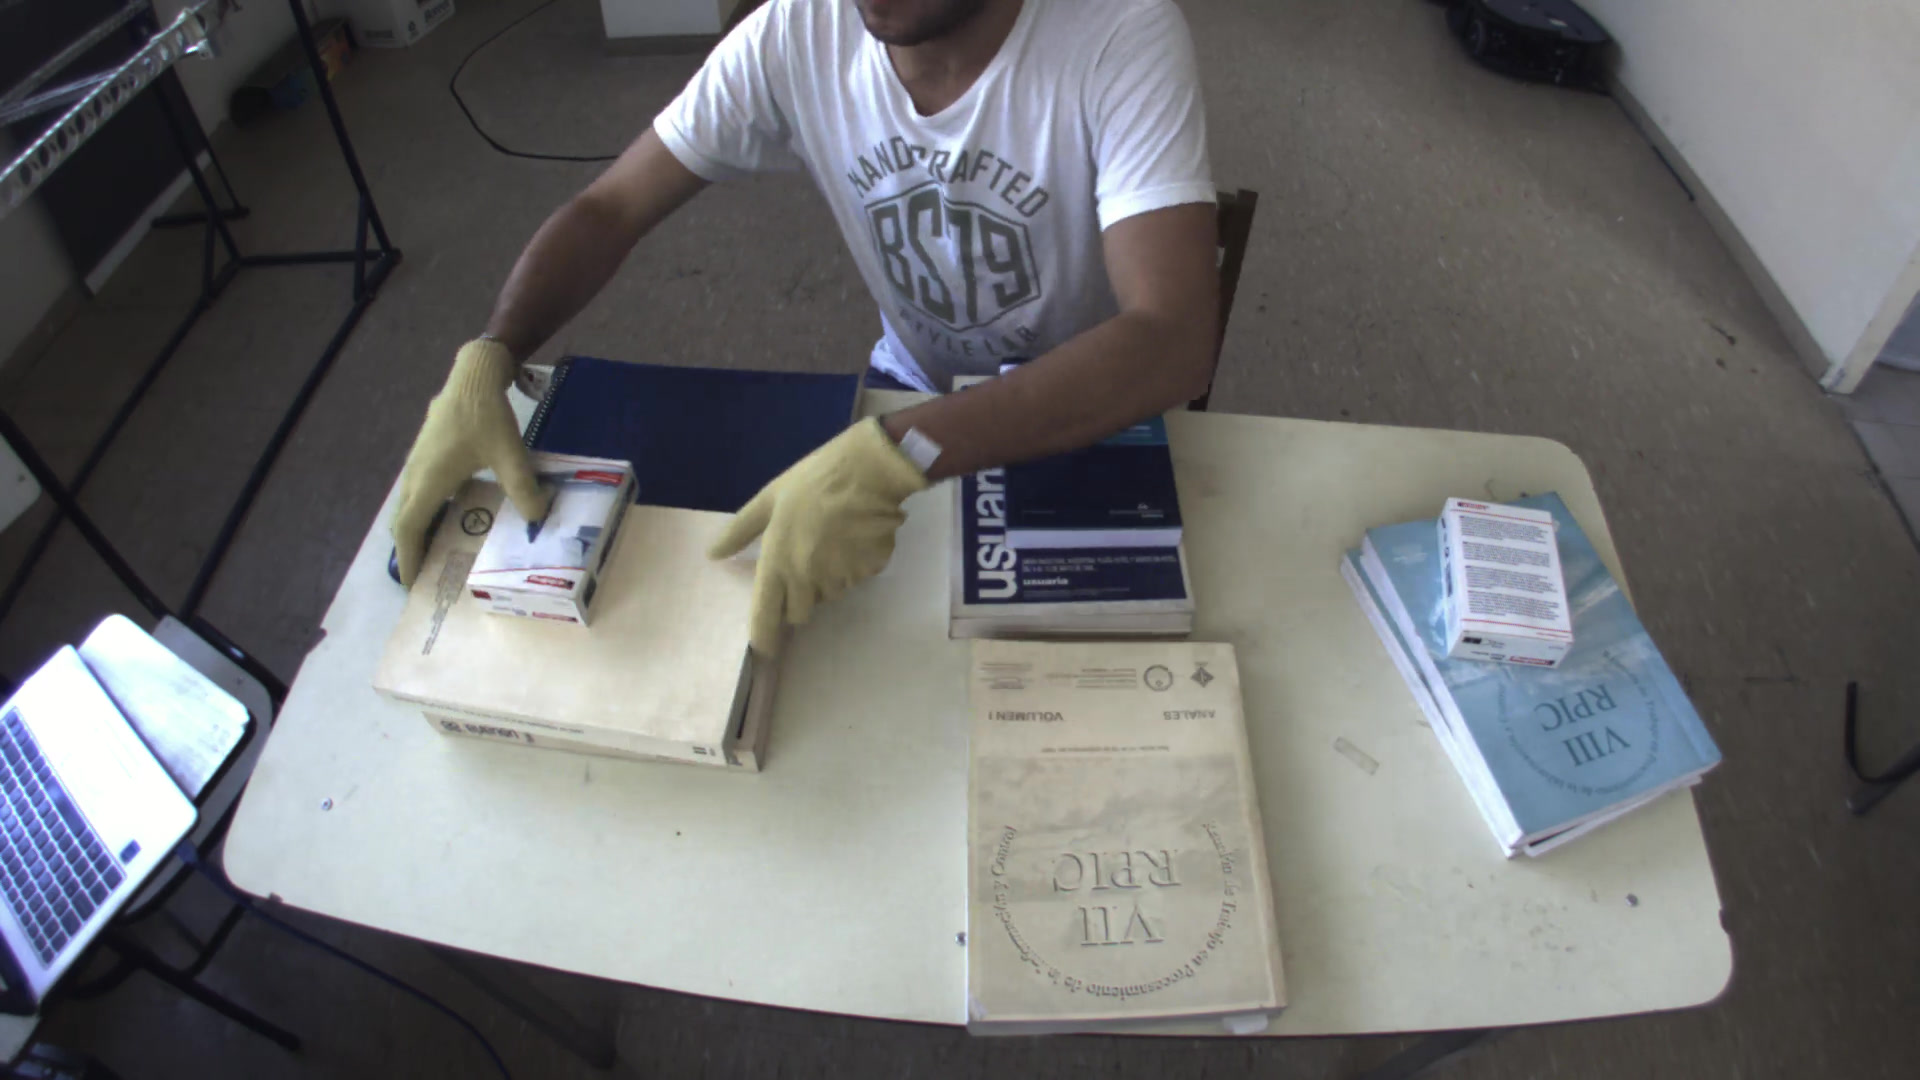hand: (698, 409, 938, 632), (384, 338, 560, 554)
